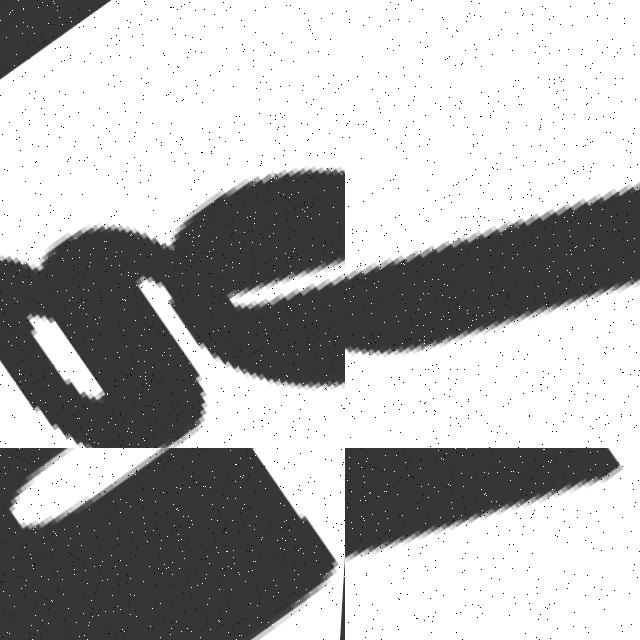G: (0, 0, 345, 448)
J: (345, 0, 640, 448)
L: (345, 448, 640, 640)
V: (0, 448, 345, 640)
